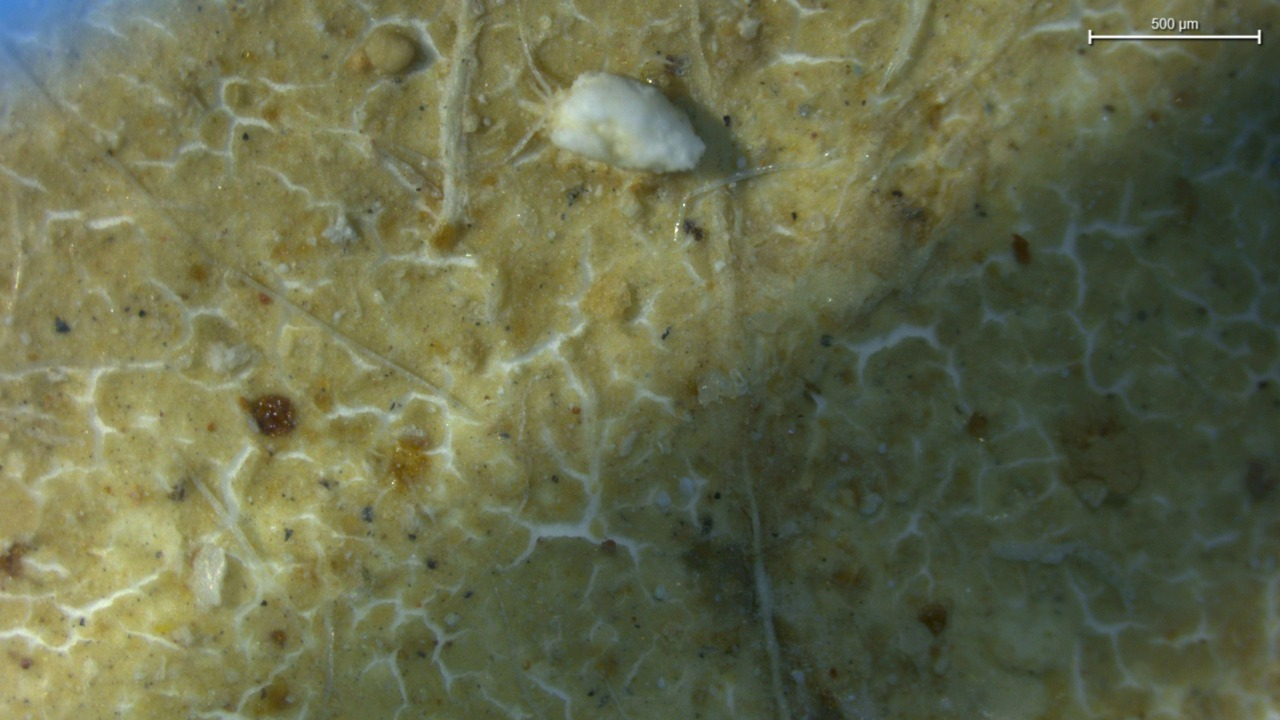microplastic_fragment: (546, 73, 712, 175), (196, 538, 229, 617), (365, 35, 413, 77)
